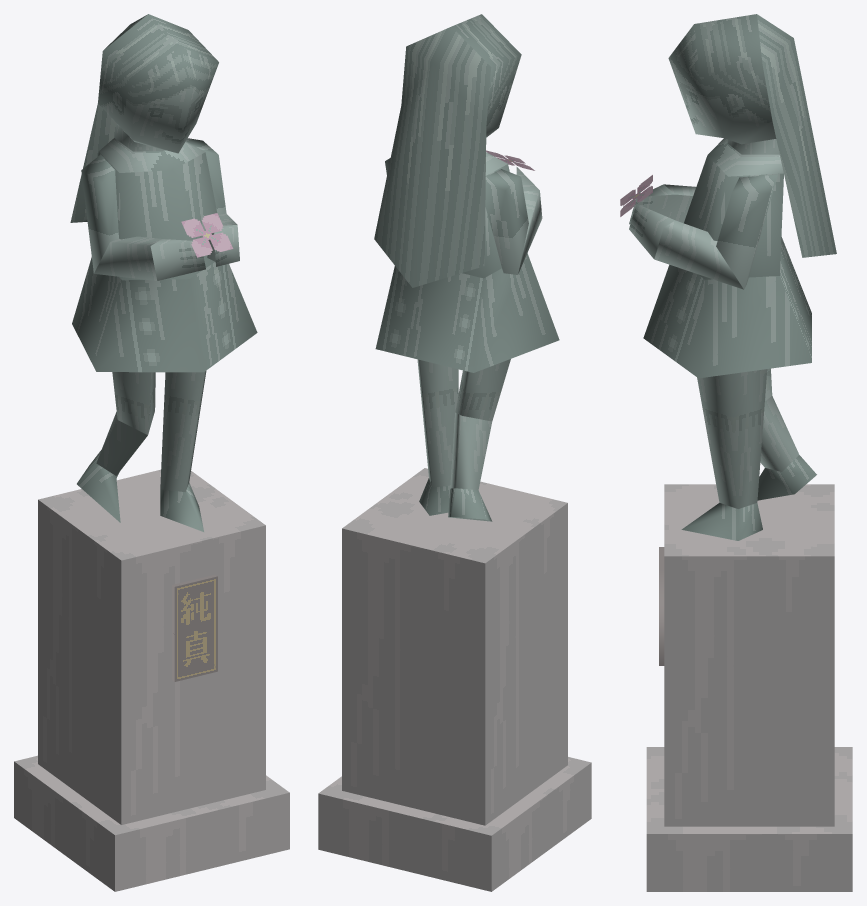
File: 03e8_Girl_Statue.glb
3 renders of one model, left to right at view 1: azimuth 30°, elevation 25°; view 2: azimuth 150°, elevation 25°; view 3: azimuth 270°, elevation 25°, orthographic. The views are drawn at different scales.
Parts seen in each view (by area): view 1: part_0; view 2: part_0; view 3: part_0.
Boxes of the visible parts, left/top/right/bottom form: part_0: left=14, top=14, right=289, bottom=891; part_0: left=318, top=14, right=591, bottom=891; part_0: left=620, top=14, right=852, bottom=891.
Size of the model in its own units: 0.7744 by 3.46 by 0.873.
1 material, 1 textured.
